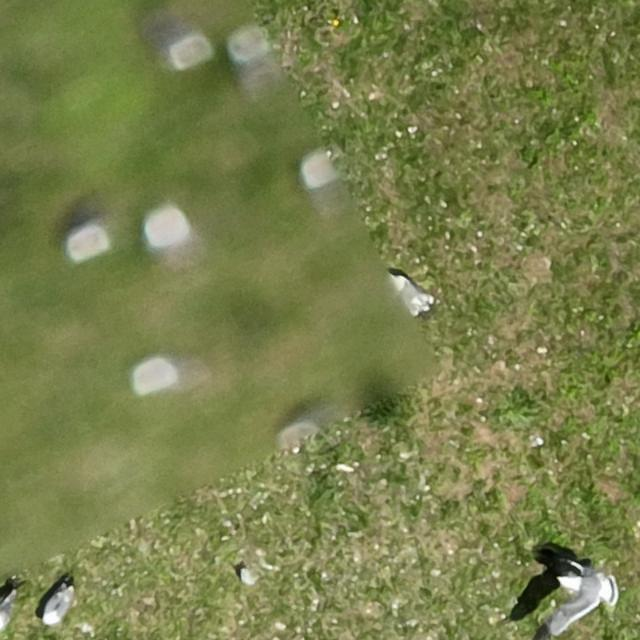F: (526, 550, 626, 630)
umineko: (379, 271, 439, 320), (0, 587, 30, 625), (44, 592, 66, 624)
